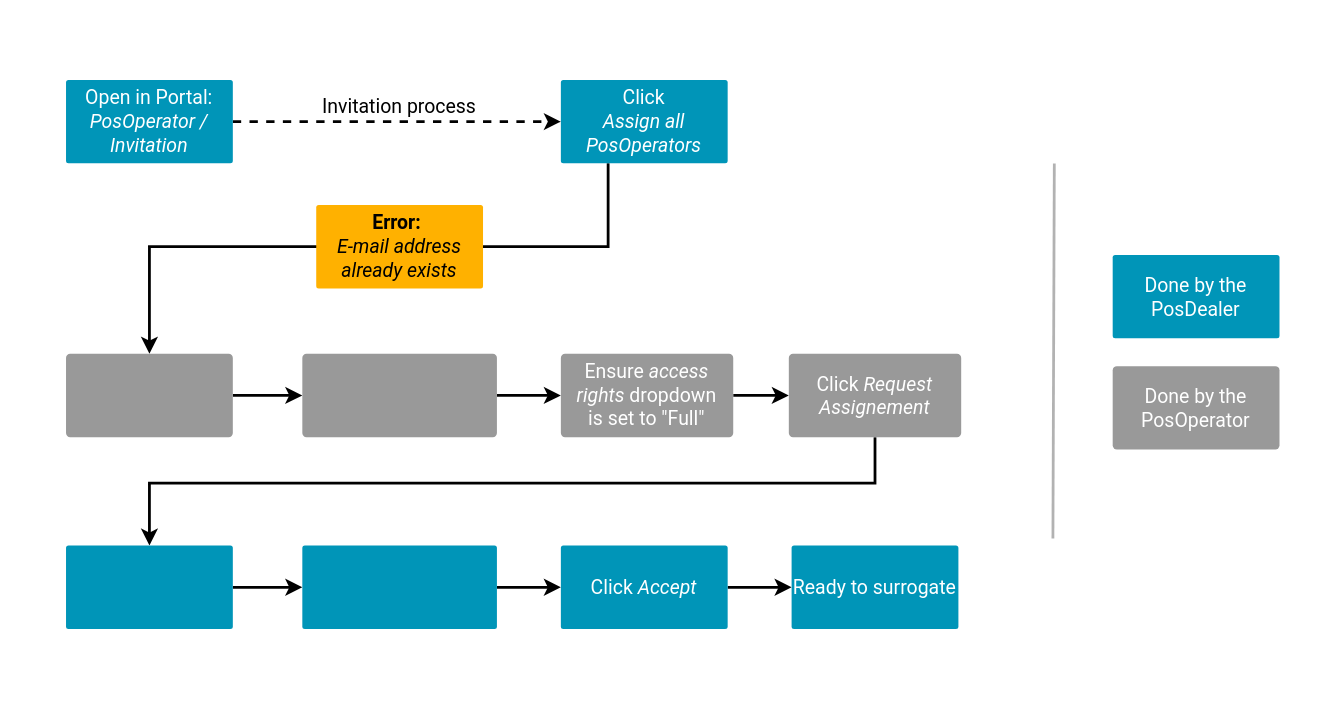
Image size: 1340x701. Some labels were removed from this diagram. The centre of each missing label's shape, as x and y in pixels:
Enter name or e-mail of PosDealer and click Search: [399,394]
Enter name or e-mail of PosOperator and click Search: [399,586]
Open in Portal: PosOperator / Overview: [148,586]
Open in Portal: PosOperator / Search PosDealer: [148,394]
